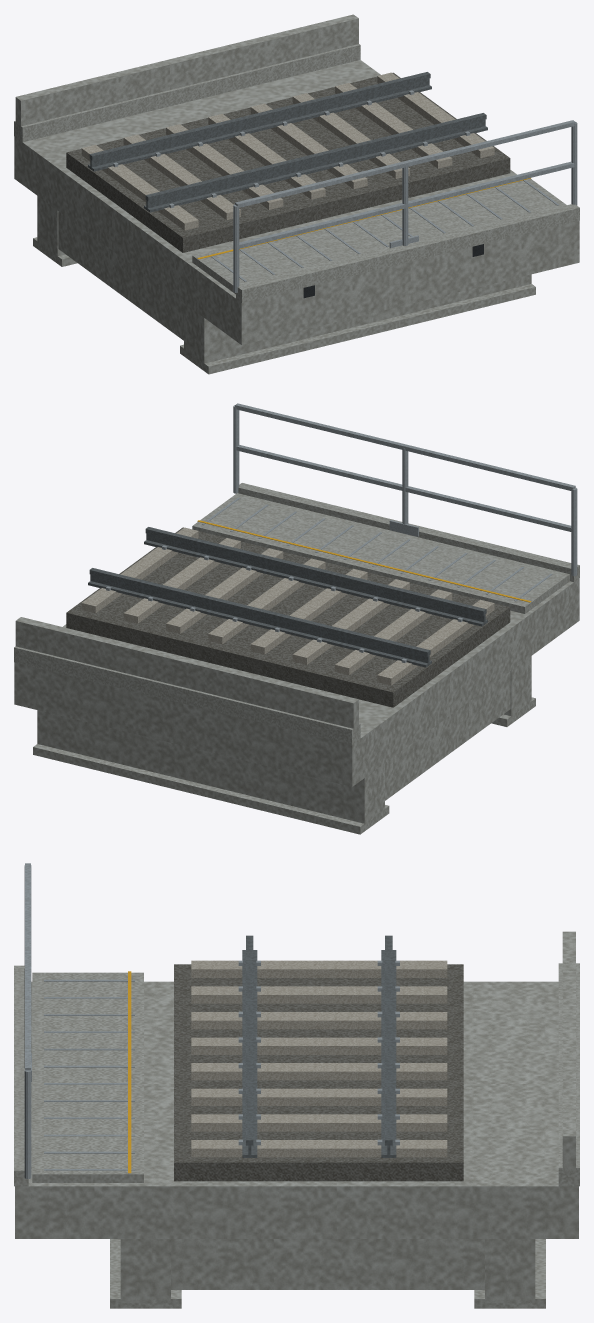
The model's file is PZ_03_RailDeck_5m_Transition.glb.
3 views of the same model, one above another, from view 1: azimuth 30°, elevation 25°; view 2: azimuth 150°, elevation 25°; view 3: azimuth 270°, elevation 25° (orthographic). The views are drawn at different scales.
Parts seen in each view (by area): view 1: STR_DeckSlab, TRACK_BallastBedding, WALK_ServiceSlab, SAFETY_FarSideParapet, STR_RightWalkCurb, STR_LeftEdgeCurbstone, STR_PrimaryGirder_Near, STR_CrossDiaphragm_00, STR_GirderFoot_Near, TRACK_RailHead_R, TRACK_RailHead_L, TRACK_RailWeb_L (+18 smaller); view 2: STR_DeckSlab, TRACK_BallastBedding, WALK_ServiceSlab, STR_PrimaryGirder_Far, SAFETY_FarSideParapet, STR_LeftEdgeCurbstone, STR_CrossDiaphragm_00, STR_GirderFoot_Far, STR_RightWalkCurb, TRACK_RailHead_L, TRACK_RailHead_R, TRACK_RailWeb_R (+17 smaller); view 3: STR_DeckSlab, TRACK_BallastBedding, WALK_ServiceSlab, STR_CrossDiaphragm_01, TRACK_Sleeper_01, TRACK_Sleeper_06, TRACK_Sleeper_02, TRACK_Sleeper_03, TRACK_Sleeper_04, TRACK_Sleeper_07, TRACK_Sleeper_00, TRACK_Sleeper_05 (+14 smaller).
Part boxes in pixels (bbox=[...]): STR_DeckSlab: bbox=[14, 60, 579, 344]; TRACK_BallastBedding: bbox=[66, 72, 510, 252]; WALK_ServiceSlab: bbox=[192, 178, 566, 294]; SAFETY_FarSideParapet: bbox=[15, 14, 358, 126]; STR_RightWalkCurb: bbox=[236, 204, 579, 302]; STR_LeftEdgeCurbstone: bbox=[14, 44, 360, 142]; STR_PrimaryGirder_Near: bbox=[184, 274, 531, 364]; STR_CrossDiaphragm_00: bbox=[58, 211, 183, 340]; STR_GirderFoot_Near: bbox=[180, 284, 535, 374]; TRACK_RailHead_R: bbox=[145, 113, 486, 201]; TRACK_RailHead_L: bbox=[89, 72, 430, 160]; TRACK_RailWeb_L: bbox=[90, 78, 429, 167]; STR_DeckSlab: bbox=[14, 578, 579, 786]; TRACK_BallastBedding: bbox=[66, 527, 510, 707]; WALK_ServiceSlab: bbox=[192, 493, 569, 613]; STR_PrimaryGirder_Far: bbox=[37, 710, 384, 823]; SAFETY_FarSideParapet: bbox=[15, 617, 358, 732]; STR_LeftEdgeCurbstone: bbox=[14, 646, 360, 744]; STR_CrossDiaphragm_00: bbox=[385, 671, 510, 800]; STR_GirderFoot_Far: bbox=[33, 744, 389, 834]; STR_RightWalkCurb: bbox=[238, 483, 579, 581]; TRACK_RailHead_L: bbox=[89, 568, 430, 656]; TRACK_RailHead_R: bbox=[145, 527, 486, 615]; TRACK_RailWeb_R: bbox=[146, 533, 485, 622]; STR_DeckSlab: bbox=[15, 981, 578, 1238]; TRACK_BallastBedding: bbox=[174, 964, 463, 1181]; WALK_ServiceSlab: bbox=[32, 972, 143, 1182]; STR_CrossDiaphragm_01: bbox=[171, 1239, 484, 1289]; TRACK_Sleeper_01: bbox=[191, 986, 447, 1003]; TRACK_Sleeper_06: bbox=[191, 1114, 447, 1131]; TRACK_Sleeper_02: bbox=[191, 1012, 447, 1029]; TRACK_Sleeper_03: bbox=[191, 1037, 447, 1054]; TRACK_Sleeper_04: bbox=[191, 1063, 447, 1080]; TRACK_Sleeper_07: bbox=[191, 1140, 447, 1157]; TRACK_Sleeper_00: bbox=[191, 960, 447, 977]; TRACK_Sleeper_05: bbox=[191, 1088, 447, 1105].
Bounding box in the file's own units: 5.07 × 2.78 × 5.84.
Materials: 8 (8 with a texture image).
